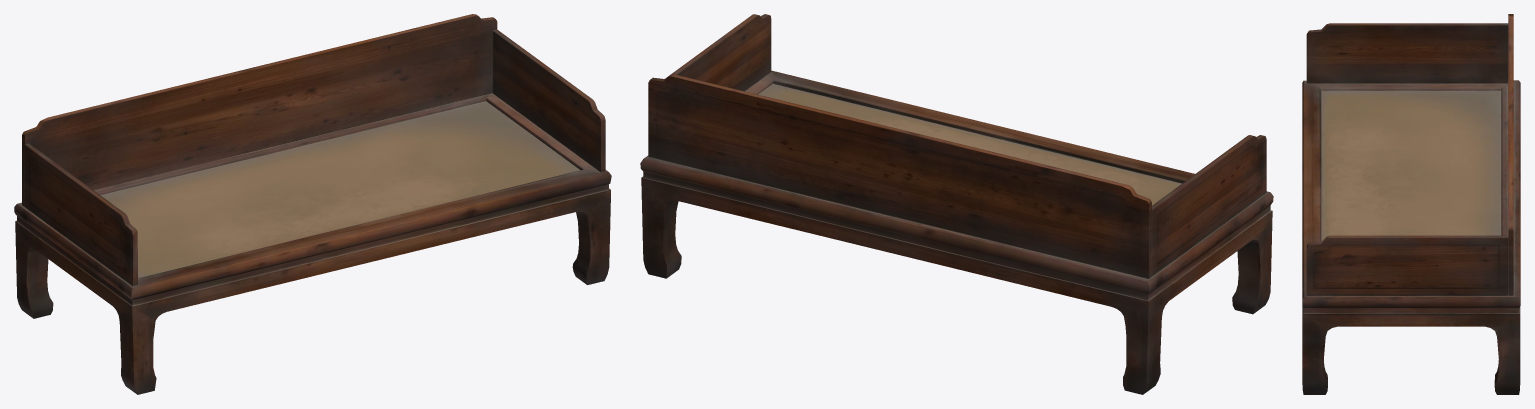
The model's file is chinese_sofa.glb.
3 renders of one model, left to right at view 1: azimuth 30°, elevation 25°; view 2: azimuth 150°, elevation 25°; view 3: azimuth 270°, elevation 25°, orthographic. The views are drawn at different scales.
Visible parts, largest first — view 1: chinese_sofa; view 2: chinese_sofa; view 3: chinese_sofa.
Part boxes in pixels (x1,y1,x2,y2): chinese_sofa: (14,14,611,394); chinese_sofa: (640,14,1273,394); chinese_sofa: (1302,14,1520,394).
Size of the model in its own units: 2.28 by 0.86 by 0.9675.
Materials: 1 (1 with a texture image).
